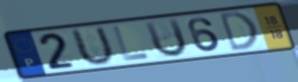2: (39, 31, 81, 72)
6: (186, 17, 222, 53)
D: (217, 9, 261, 54)
L: (110, 25, 152, 63)
U: (142, 16, 190, 59), (70, 25, 117, 68)
